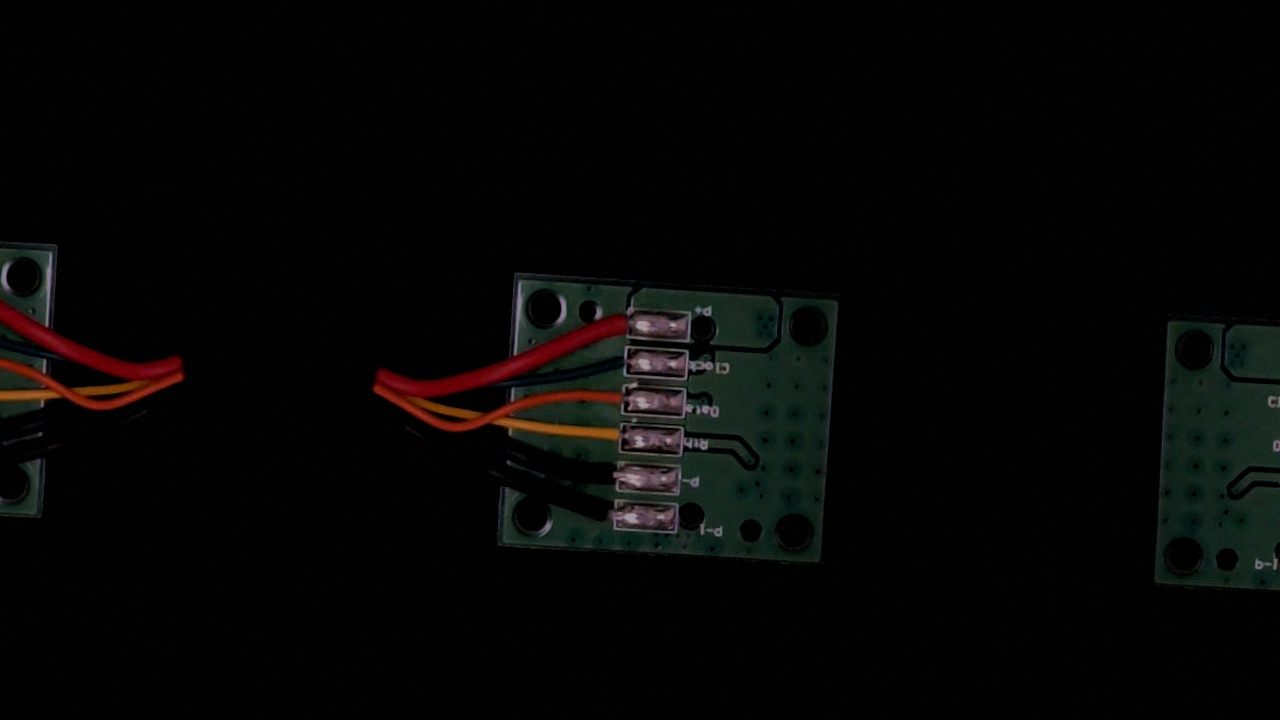Black: (562, 456, 637, 494)
Black1: (563, 502, 633, 535)
Green: (581, 346, 644, 377)
Orange: (568, 382, 641, 418)
Red: (577, 306, 646, 341)
Yellow: (562, 416, 638, 454)
